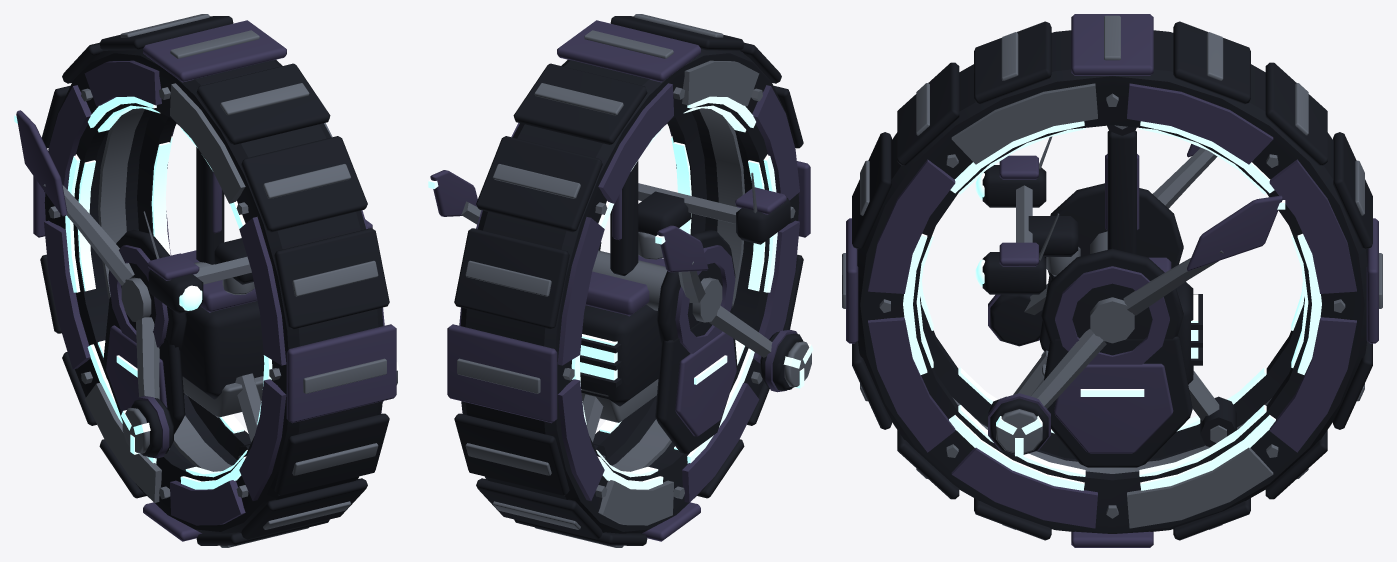
Rendered from enemy_wheel.glb.
3 views of the same model, side by side, from view 1: azimuth 30°, elevation 25°; view 2: azimuth 150°, elevation 25°; view 3: azimuth 270°, elevation 25° (orthographic). The views are drawn at different scales.
Parts seen in each view (by area): view 1: rim, body, head, spin_2; view 2: rim, body, head, spin_2; view 3: rim, body, head, spin_1.
Part boxes in pixels (box(x1,y1,x2,y2)): rim: box(33, 14, 396, 547); body: box(14, 110, 383, 459); head: box(143, 211, 372, 314); spin_2: box(121, 408, 150, 454); rim: box(447, 14, 810, 547); body: box(428, 160, 803, 459); head: box(638, 172, 790, 259); spin_2: box(783, 341, 813, 388); rim: box(842, 14, 1382, 547); body: box(988, 125, 1285, 467); head: box(975, 136, 1080, 294); spin_1: box(996, 409, 1042, 456).
Bounding box in the file's own units: 1.24 × 2.21 × 2.21.
